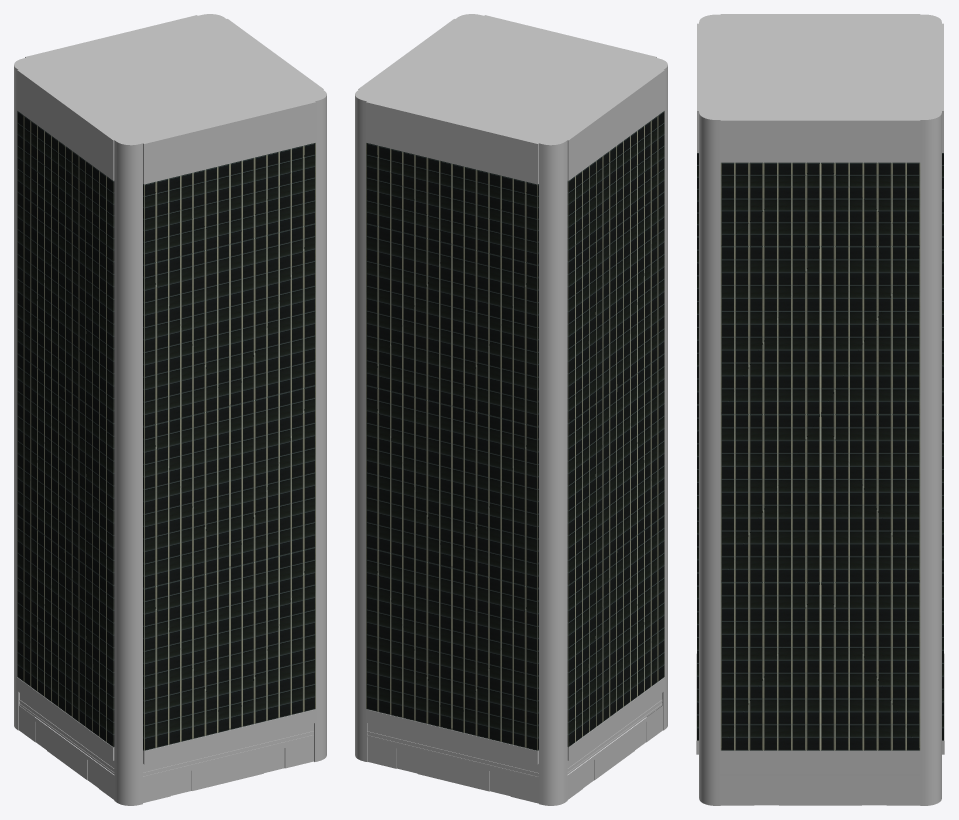
The picture shows the model from 3 angles, left to right: view 1: azimuth 30°, elevation 25°; view 2: azimuth 150°, elevation 25°; view 3: azimuth 270°, elevation 25°; orthographic projection. The views are drawn at different scales.
Visible parts, largest first — view 1: EC-018; view 2: EC-018; view 3: EC-018.
Boxes of the visible parts, left/top/right/bottom form: EC-018: left=14, top=14, right=326, bottom=805; EC-018: left=355, top=14, right=667, bottom=805; EC-018: left=696, top=14, right=944, bottom=805.
Size of what is drawn, in the model's own units: 24.6 by 73.5 by 24.1.
